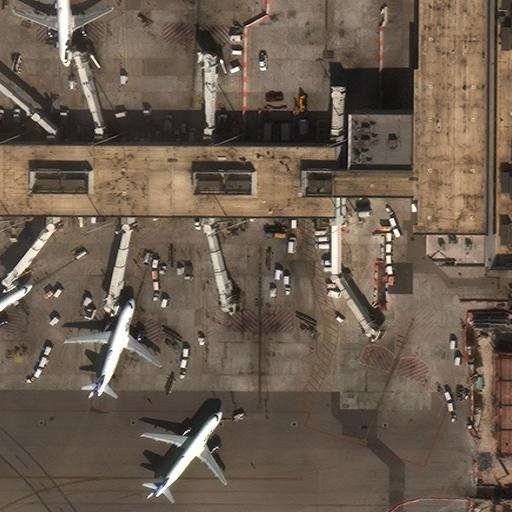Medium Civil Transport: (66, 298, 162, 397), (143, 411, 227, 497), (13, 0, 114, 67), (0, 285, 32, 363)
